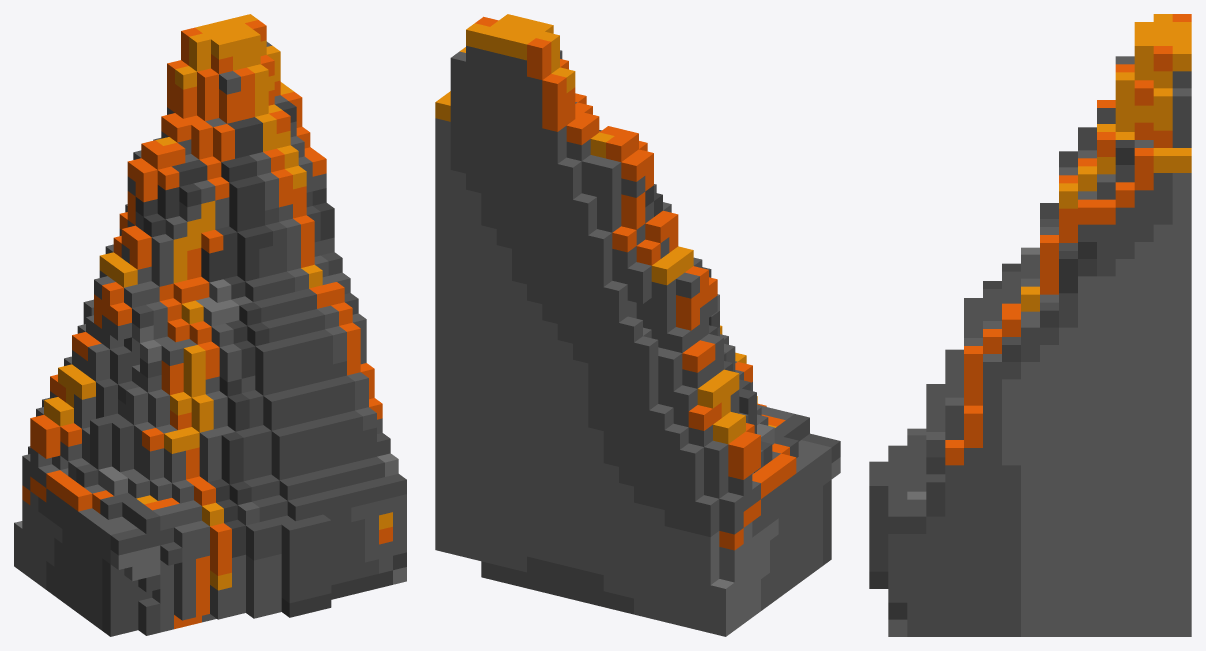
The model's file is beach11.obj.
The picture shows the model from 3 angles, left to right: view 1: azimuth 30°, elevation 25°; view 2: azimuth 150°, elevation 25°; view 3: azimuth 270°, elevation 25°; orthographic projection. The views are drawn at different scales.
Size of the model in its own units: 1.9 by 3.4 by 1.7.
1 material, 1 textured.
